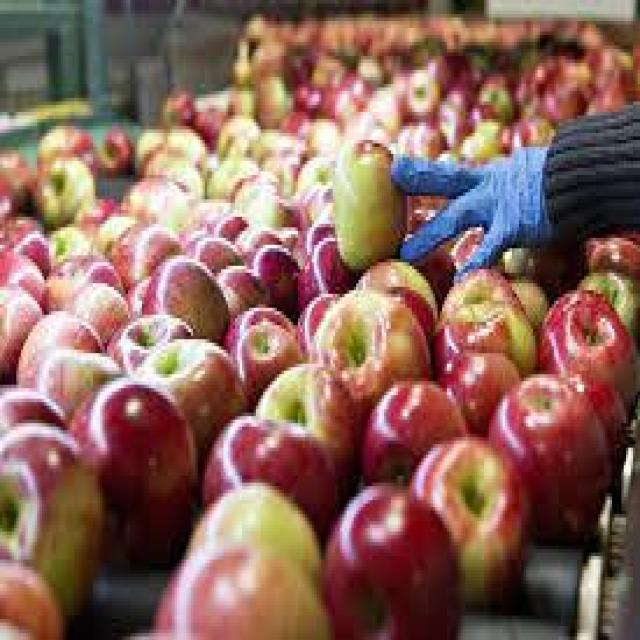maca: (5, 126, 386, 640), (394, 288, 625, 532)
